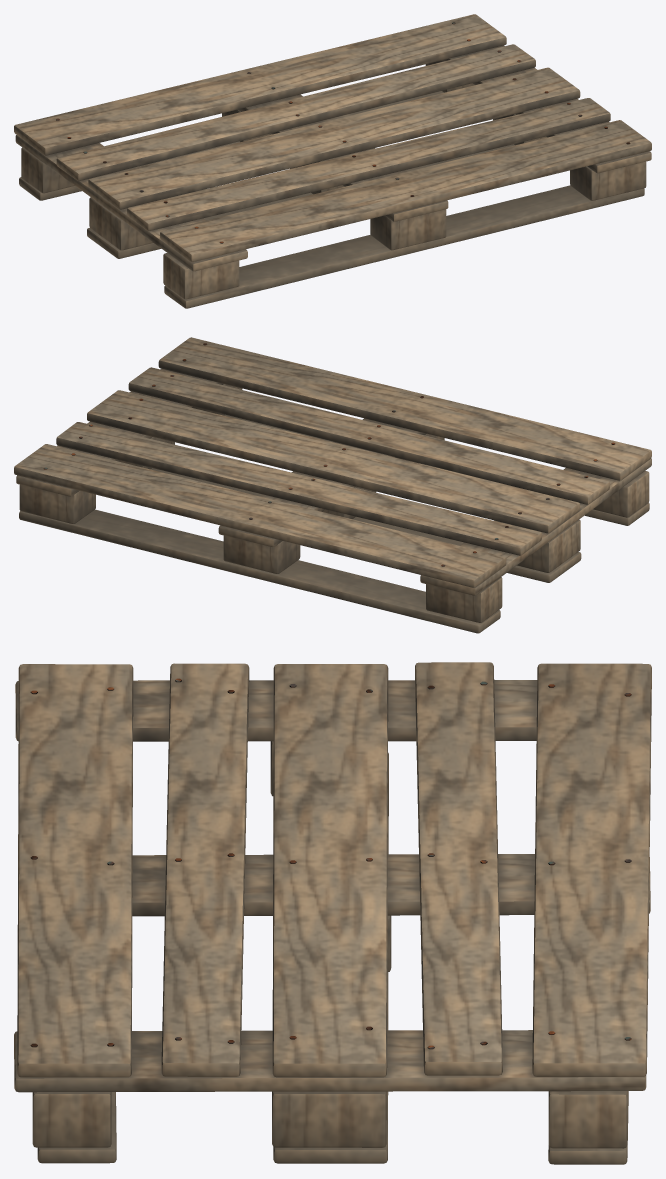
File: SM_Pallet_Body.fbx
3 views of the same model, one above another, from view 1: azimuth 30°, elevation 25°; view 2: azimuth 150°, elevation 25°; view 3: azimuth 270°, elevation 25° (orthographic). The views are drawn at different scales.
Visible parts, largest first — view 1: Pallet_Body; view 2: Pallet_Body; view 3: Pallet_Body.
Part boxes in pixels (x1,y1,x2,y2): Pallet_Body: (14, 14, 651, 308); Pallet_Body: (14, 337, 651, 633); Pallet_Body: (14, 662, 651, 1164).
Size of the model in its own units: 0.8077 by 1.21 by 0.1455.
1 material, 1 textured.
